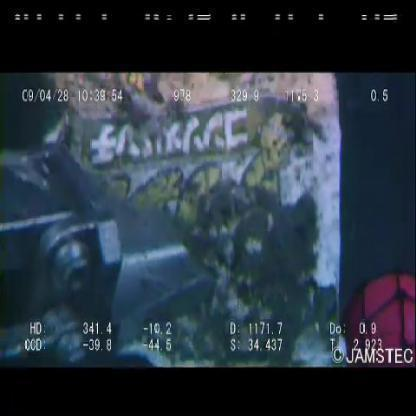Rác: (41, 69, 348, 370)
